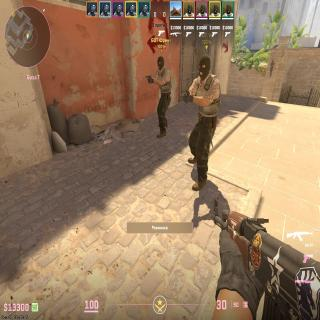T-Body: (191, 54, 221, 180), (155, 56, 171, 131)
T-Head: (198, 54, 211, 78), (157, 56, 164, 70)
